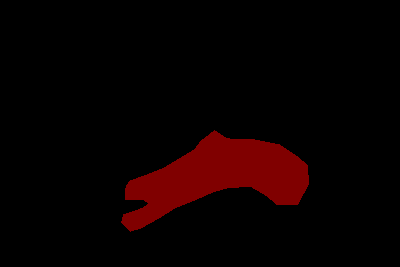fire: (121, 130, 308, 231)
